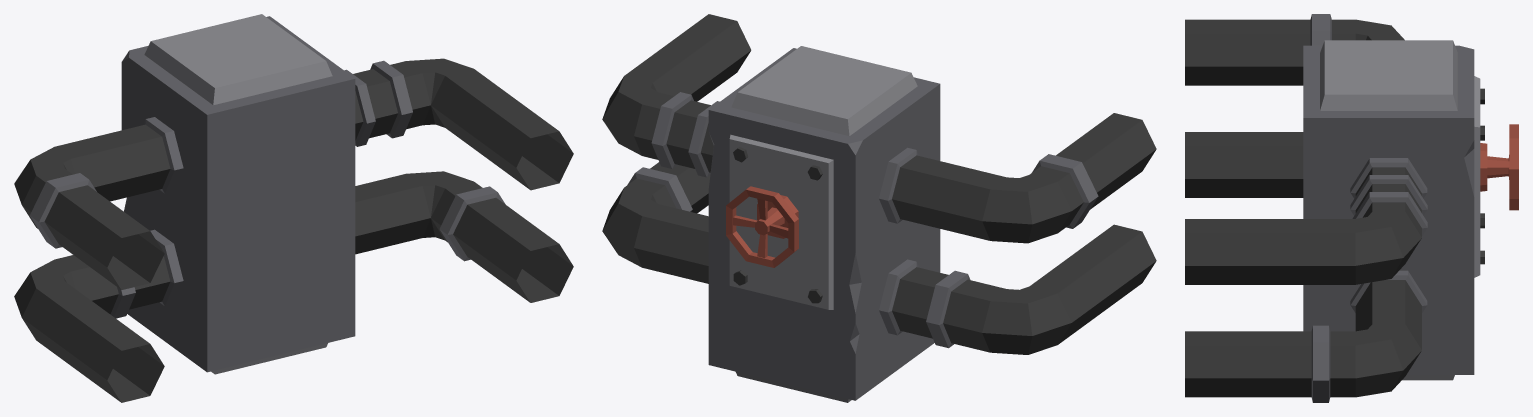
File: SM_Prop_Detail_Pipes_03.fbx
3 views of the same model, side by side, from view 1: azimuth 30°, elevation 25°; view 2: azimuth 150°, elevation 25°; view 3: azimuth 270°, elevation 25° (orthographic).
Visible parts, largest first — view 1: SM_Prop_Detail_Pipes_03_LOD0; view 2: SM_Prop_Detail_Pipes_03_LOD0; view 3: SM_Prop_Detail_Pipes_03_LOD0.
Boxes of the visible parts, left/top/right/bottom form: SM_Prop_Detail_Pipes_03_LOD0: left=14, top=14, right=573, bottom=402; SM_Prop_Detail_Pipes_03_LOD0: left=602, top=14, right=1156, bottom=402; SM_Prop_Detail_Pipes_03_LOD0: left=1185, top=14, right=1518, bottom=402.
Bounding box in the file's own units: 128 × 210 × 121.
Materials: 1 (1 with a texture image).
